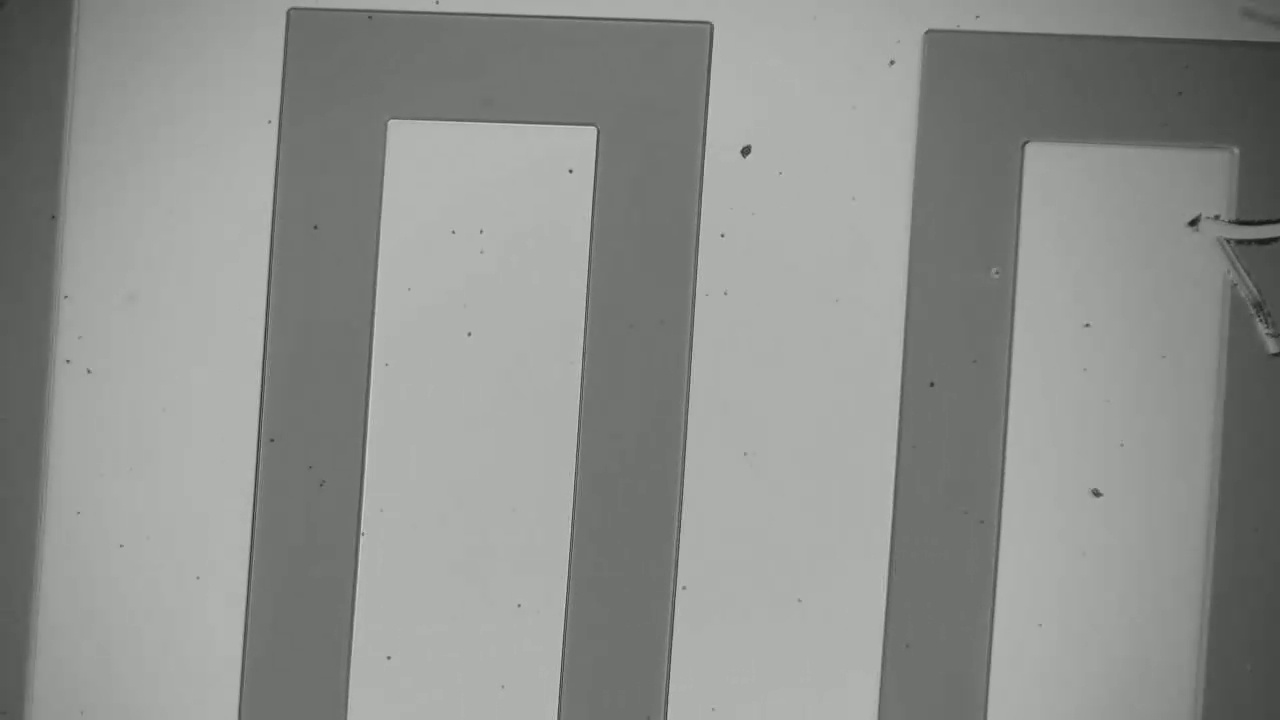Short_circuit: (1181, 195, 1279, 253)
